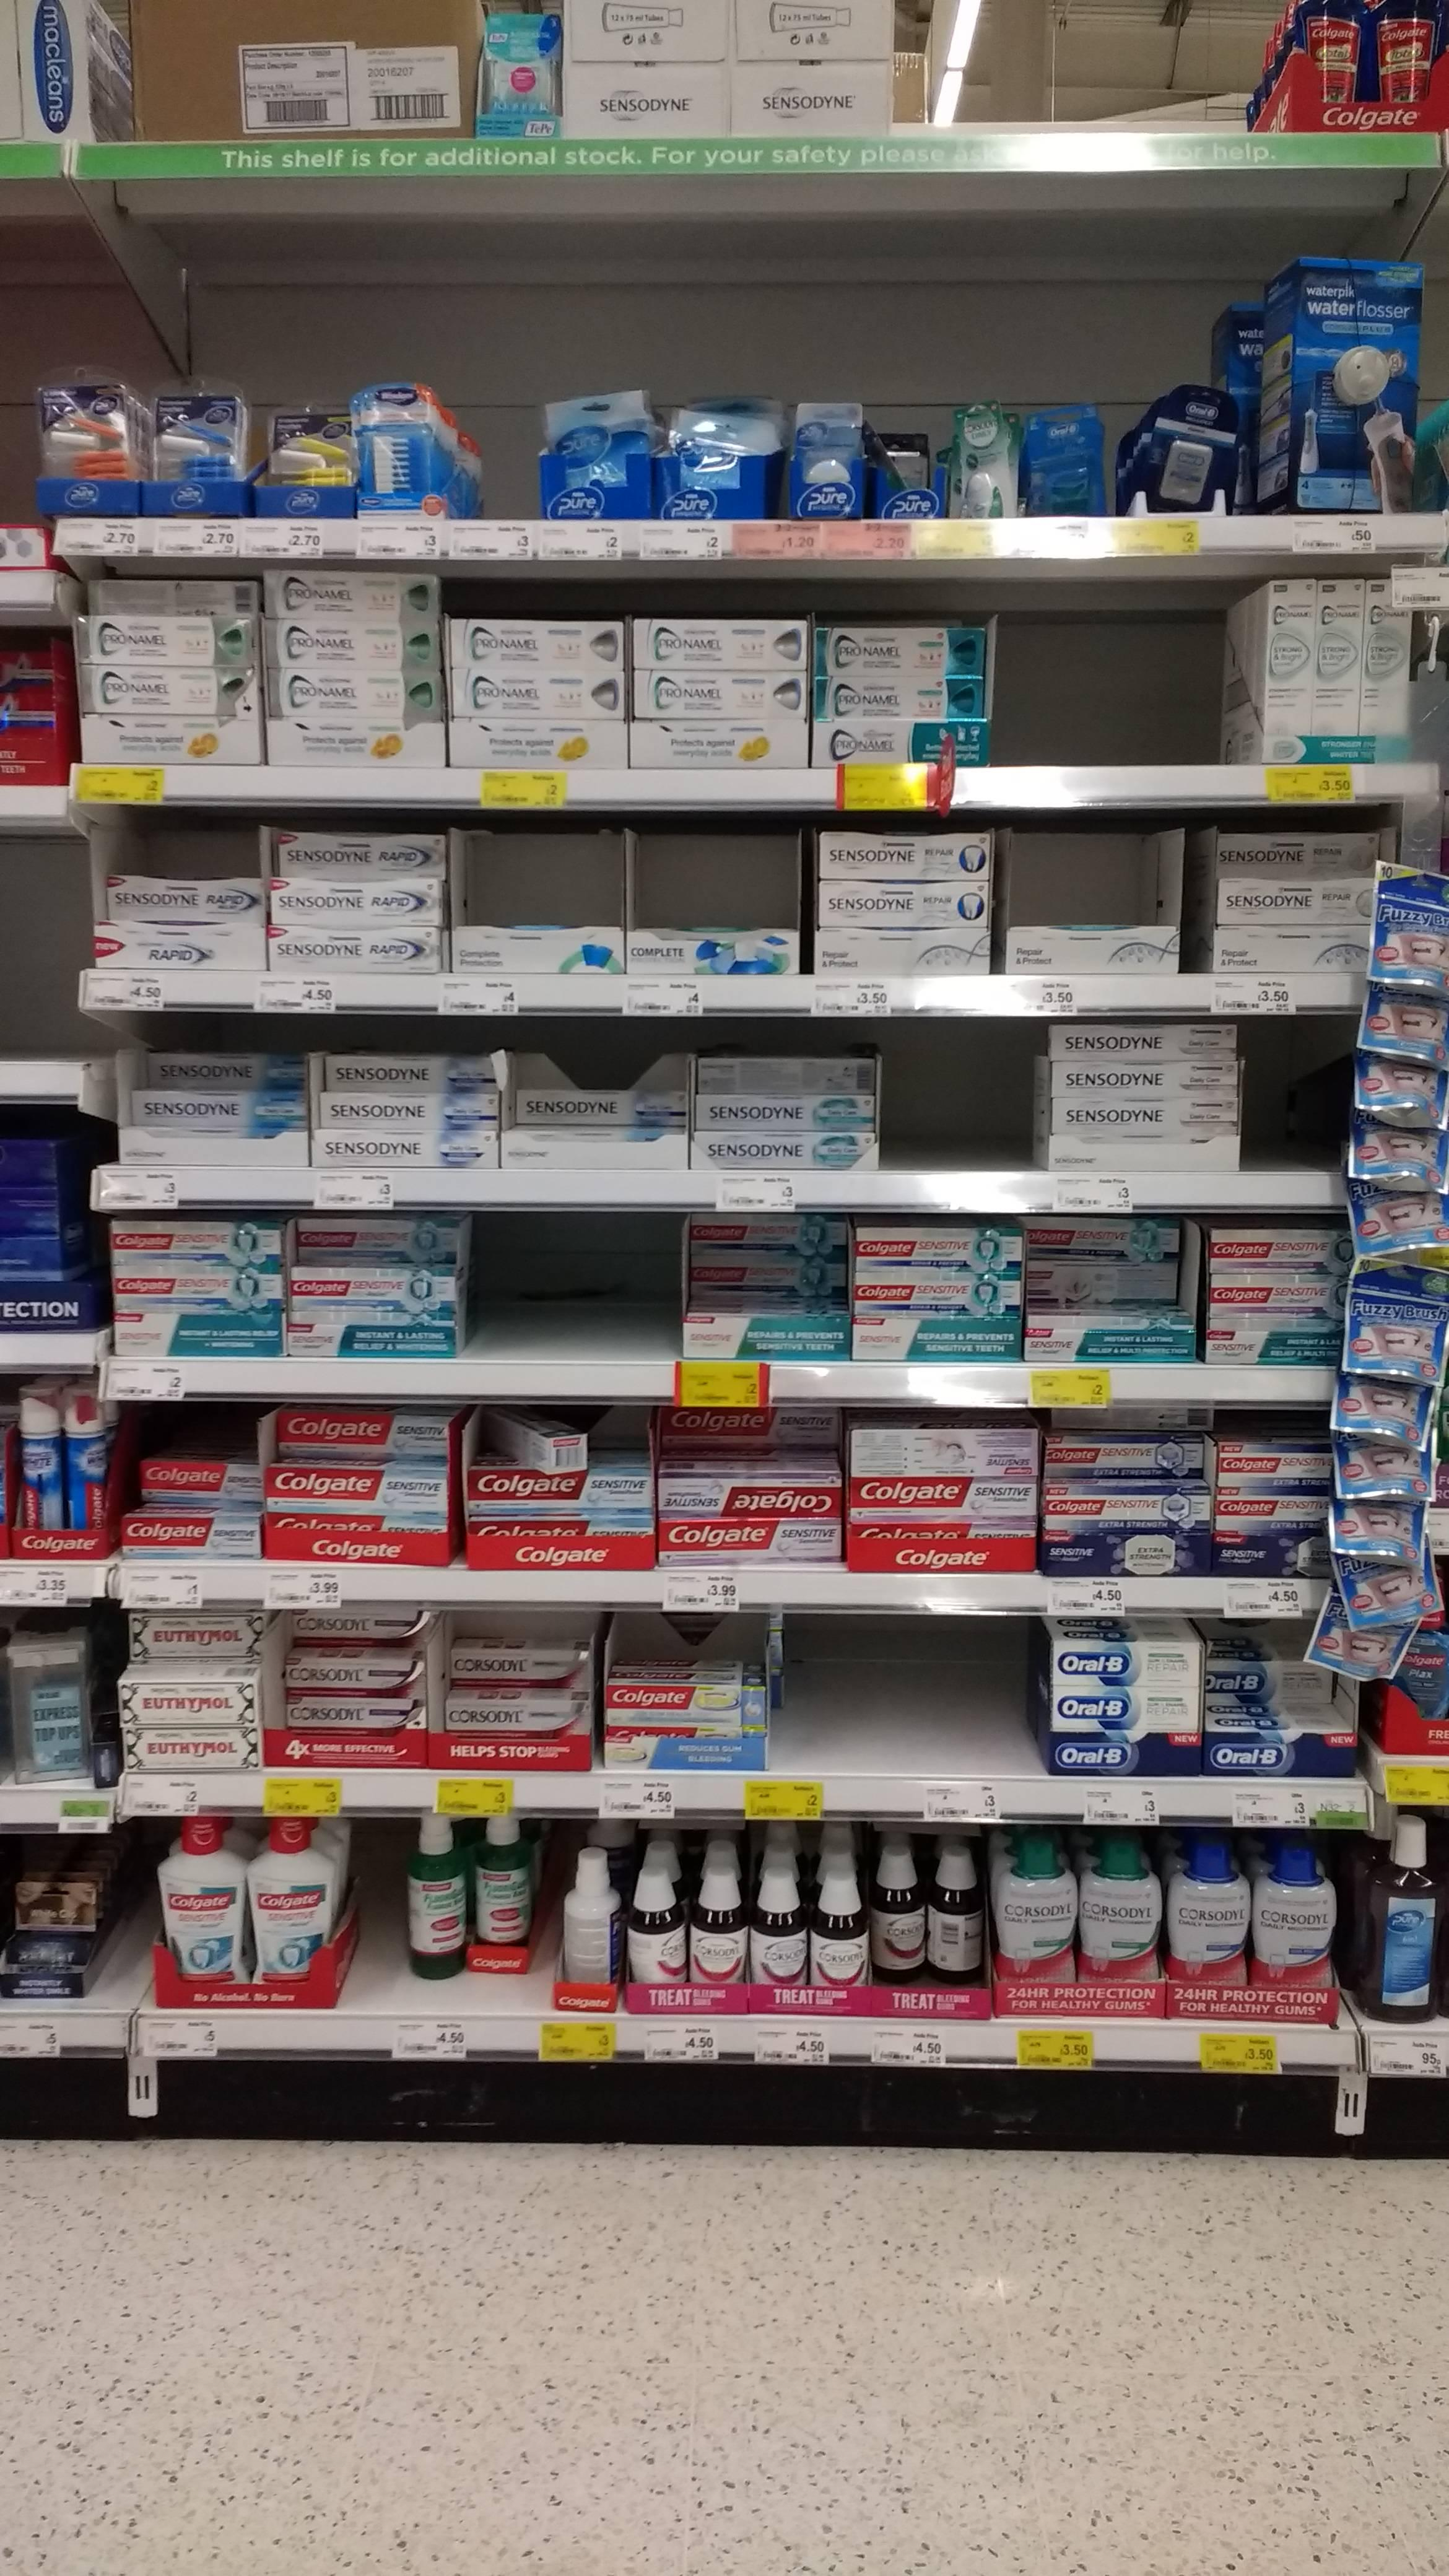empty: (777, 1626, 1033, 1773), (996, 628, 1238, 766), (471, 1228, 669, 1366), (885, 1037, 1040, 1171), (1233, 1030, 1348, 1171)
